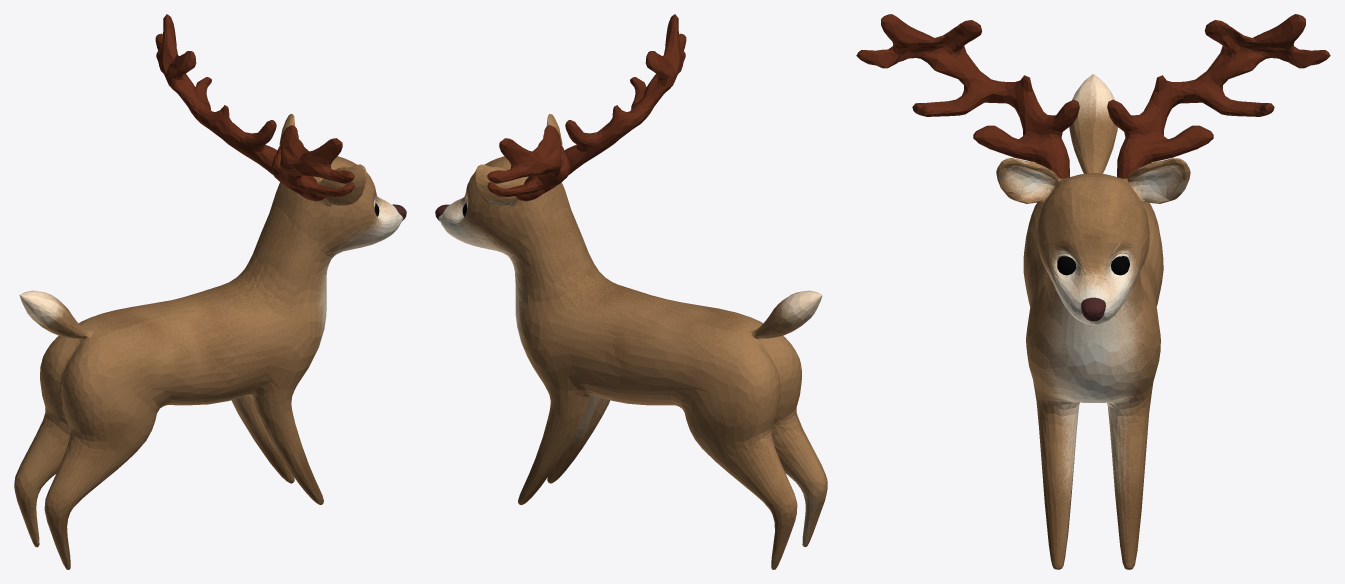
File: DEER  f.fbx
The picture shows the model from 3 angles, left to right: view 1: azimuth 30°, elevation 25°; view 2: azimuth 150°, elevation 25°; view 3: azimuth 270°, elevation 25°; orthographic projection. The views are drawn at different scales.
Parts seen in each view (by area): view 1: Cube.008, Cube.001, Cube.003; view 2: Cube.008, Cube.003, Cube.001; view 3: Cube.008, Cube.001, Cube.003.
Part boxes in pixels (bbox=[...]): Cube.008: bbox=[14, 114, 406, 569]; Cube.001: bbox=[155, 14, 277, 174]; Cube.003: bbox=[271, 125, 354, 201]; Cube.008: bbox=[435, 114, 827, 569]; Cube.003: bbox=[564, 14, 686, 174]; Cube.001: bbox=[487, 125, 570, 201]; Cube.008: bbox=[996, 74, 1190, 569]; Cube.001: bbox=[1107, 14, 1330, 178]; Cube.003: bbox=[856, 14, 1079, 178].
Bounding box in the file's own units: 912 × 800 × 981.
4 materials, 1 textured.
